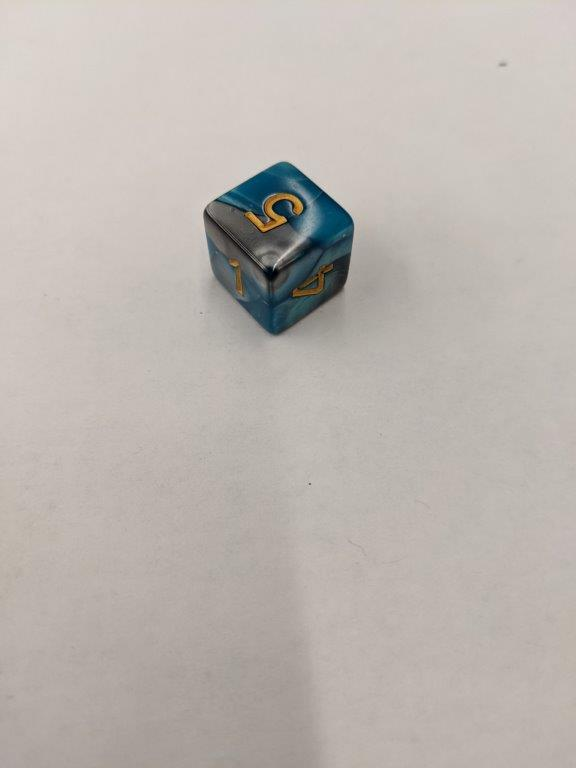d6-5: (206, 162, 355, 336)
